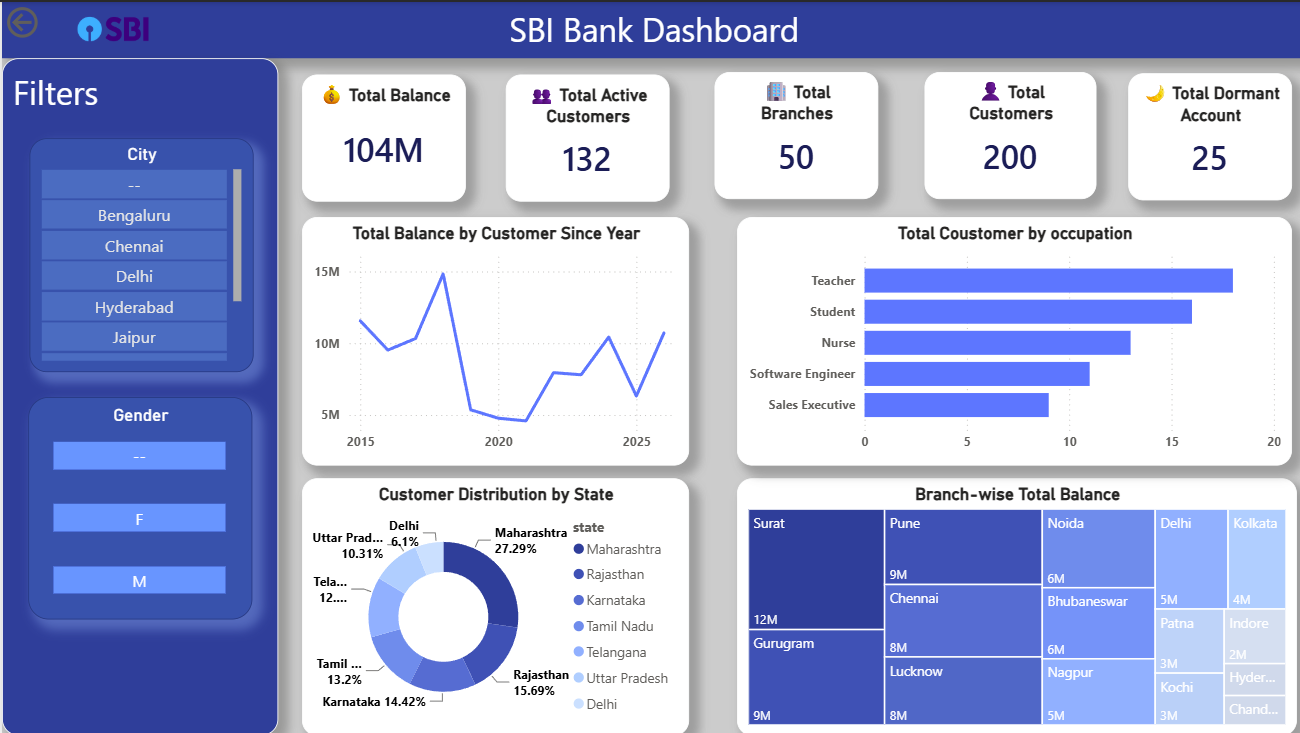

The dashboard page shown, as its layout file describes it:
{"tool":"powerbi","page":{"name":"Dashboard","canvas":[1280,720],"ordinal":0},"visuals":[{"type":"textbox","box":[0,0,1280.3,54.9],"z":0},{"type":"group","id":"g1","title":"Group 1","box":[495.3,68.6,771.2,127.6],"z":0,"group":"g2"},{"type":"cardVisual","title":"👥 Total Active Customers","fields":{"Data":["Customer_360.Total Active Customers"]},"box":[495.3,71.3,160.5,124.9],"z":0,"group":"g1"},{"type":"textbox","box":[0,55.2,271.2,665],"z":1000},{"type":"cardVisual","title":"🌙 Total Dormant Account","fields":{"Data":["Customer_360.Total Dormant Accounts"]},"box":[1105.9,70,160.5,124.9],"z":1000,"group":"g1"},{"type":"cardVisual","title":"💰 Total Balance","fields":{"Data":["Customer_360.Total Balance"]},"box":[295,71.3,160.5,124.9],"z":1000,"group":"g2"},{"type":"group","id":"g2","title":"Group 2","box":[295,68.6,971.5,127.6],"z":2000},{"type":"cardVisual","title":"👤 Total Customers","fields":{"Data":["Customer_360.Total Coustomer"]},"box":[906.5,69.1,168.8,124.9],"z":2000,"group":"g1"},{"type":"cardVisual","title":"🏢 Total Branches","fields":{"Data":["Customer_360.Total Branches"]},"box":[699.8,68.6,160.5,124.9],"z":3000,"group":"g1"},{"type":"treemap","title":"Branch-wise Total Balance","fields":{"Group":["Customer_360.branch_city"],"Values":["Customer_360.Total Balance"]},"box":[716.3,467.9,550.3,252.5],"z":3000},{"type":"clusteredBarChart","fields":{"Category":["Customer_360.occupation"],"Y":["Customer_360.Total Coustomer"]},"box":[721.8,211.3,544.8,244.3],"z":4000},{"type":"lineChart","title":"Total Balance by Customer Since Year","fields":{"Category":["Customer_360.customer_since.Variation.Date Hierarchy.Year"],"Y":["Customer_360.Total Balance"]},"box":[295,211.3,380.1,244.3],"z":5000},{"type":"donutChart","title":"Customer Distribution by State","fields":{"Y":["Sum(Customer_360.customer_id)"],"Category":["Customer_360.state"]},"box":[295,467.9,380.1,252.5],"z":6000},{"type":"advancedSlicerVisual","title":"Gender","fields":{"Values":["Customer_360.gender"]},"box":[25.8,387.7,219.6,218.4],"z":7000},{"type":"actionButton","box":[0,0,100,40],"z":8000},{"type":"image","box":[25.8,6.1,166.9,40.5],"z":9000},{"type":"listSlicer","title":"City","fields":{"Values":["Customer_360.city"]},"box":[27,133.7,219.6,229.4],"z":10000}]}

Visuals, with their boxes in screenshot pixels (x1, y1, x2, y2), scaled from the page's 1280x720 canvas onto the 1300x733 screenshot:
textbox: Rect(0, 0, 1299, 56)
"Group 1" group: Rect(503, 70, 1286, 200)
"👥 Total Active Customers" cardVisual: Rect(503, 73, 666, 200)
textbox: Rect(0, 56, 275, 732)
"🌙 Total Dormant Account" cardVisual: Rect(1123, 71, 1286, 198)
"💰 Total Balance" cardVisual: Rect(300, 73, 463, 200)
"Group 2" group: Rect(300, 70, 1286, 200)
"👤 Total Customers" cardVisual: Rect(921, 70, 1092, 198)
"🏢 Total Branches" cardVisual: Rect(711, 70, 874, 197)
"Branch-wise Total Balance" treemap: Rect(727, 476, 1286, 732)
clusteredBarChart - Customer_360.occupation x Customer_360.Total Coustomer: Rect(733, 215, 1286, 464)
"Total Balance by Customer Since Year" lineChart: Rect(300, 215, 686, 464)
"Customer Distribution by State" donutChart: Rect(300, 476, 686, 732)
"Gender" advancedSlicerVisual: Rect(26, 395, 249, 617)
actionButton: Rect(0, 0, 102, 41)
image: Rect(26, 6, 196, 47)
"City" listSlicer: Rect(27, 136, 250, 370)
